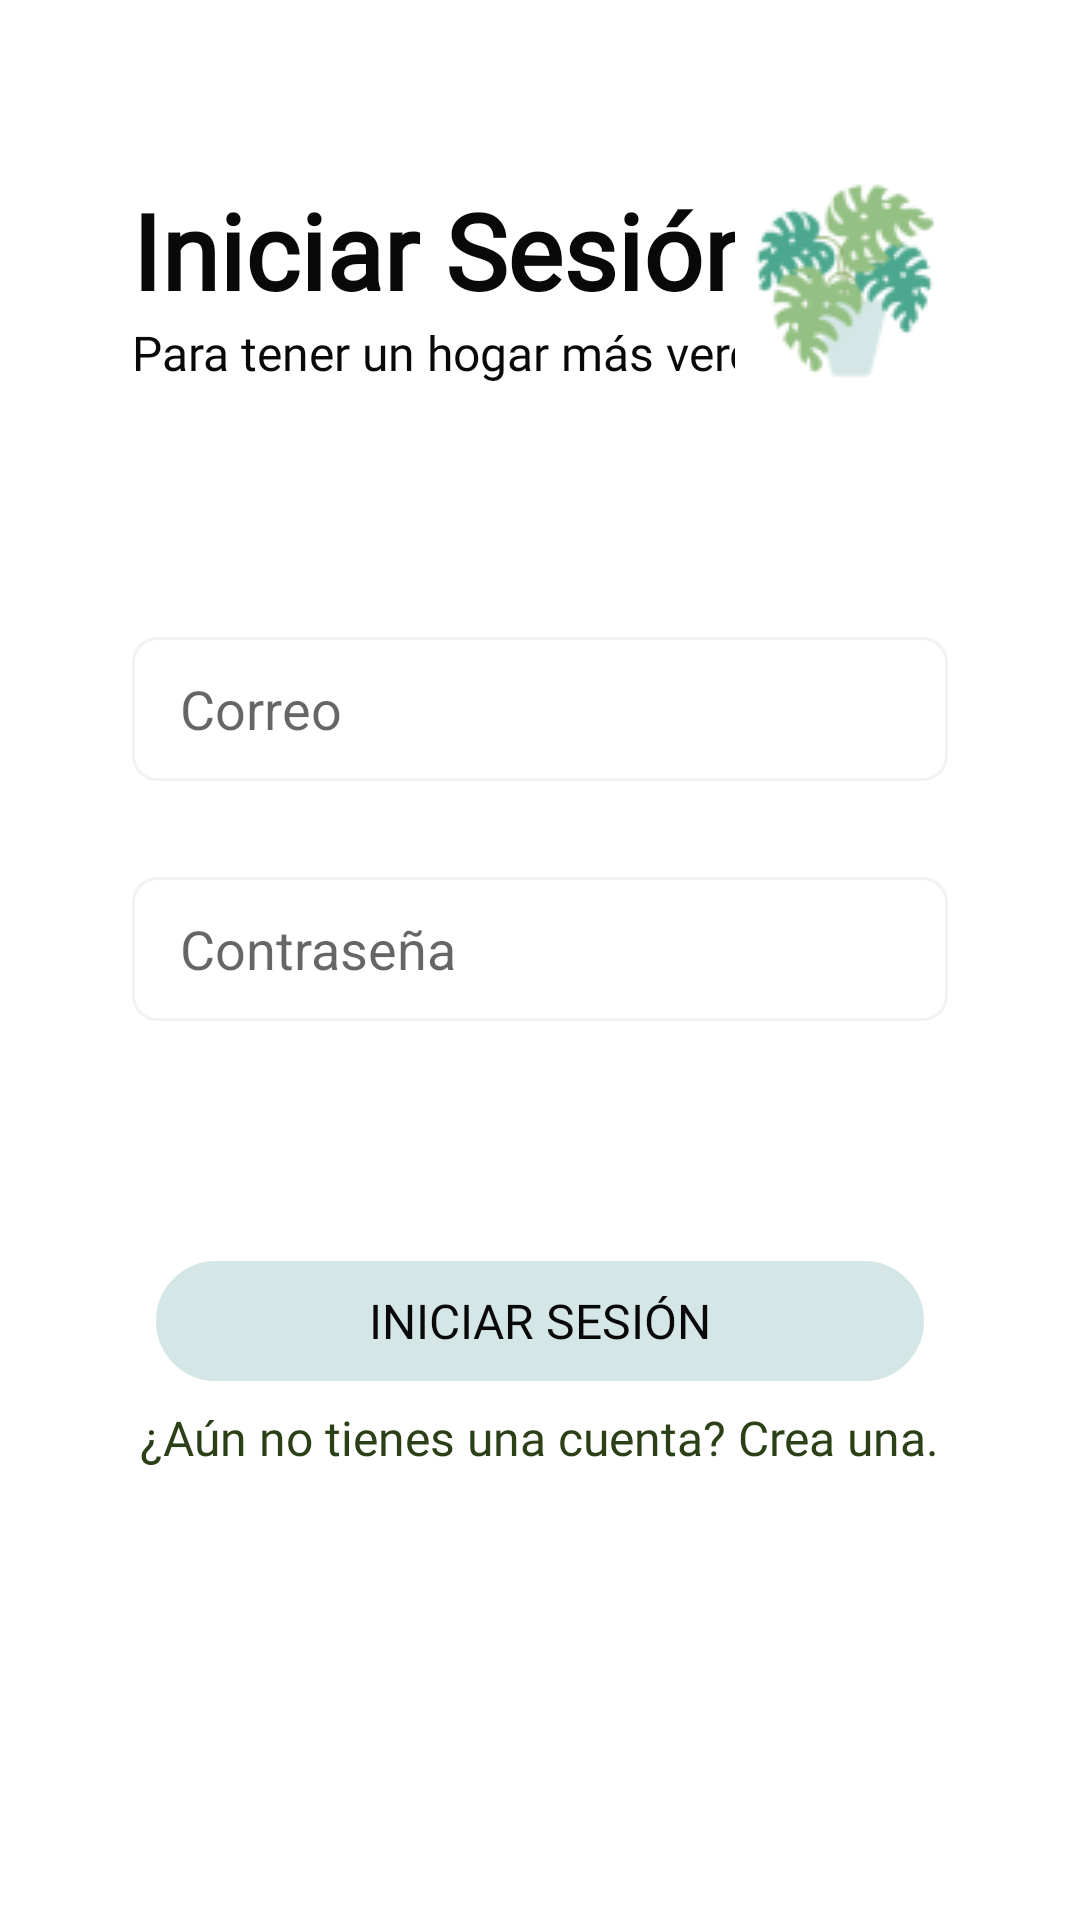

Screen size 1080w x 1920h. Icon name, then its center in pixels as (x=x, y=y):
grow it: (x=845, y=280)
